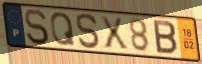8: (128, 18, 151, 53)
B: (152, 18, 179, 57)
Q: (49, 11, 77, 47)
S: (23, 8, 51, 46), (75, 12, 102, 51)
X: (98, 15, 130, 51)
